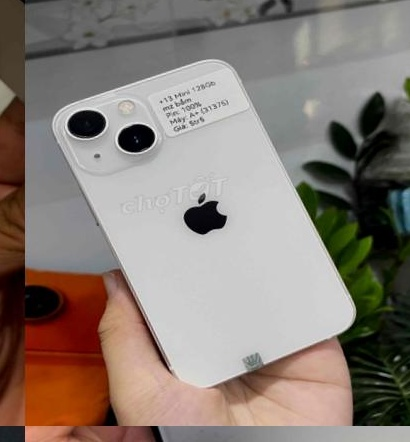scratch: (153, 426, 292, 442)
